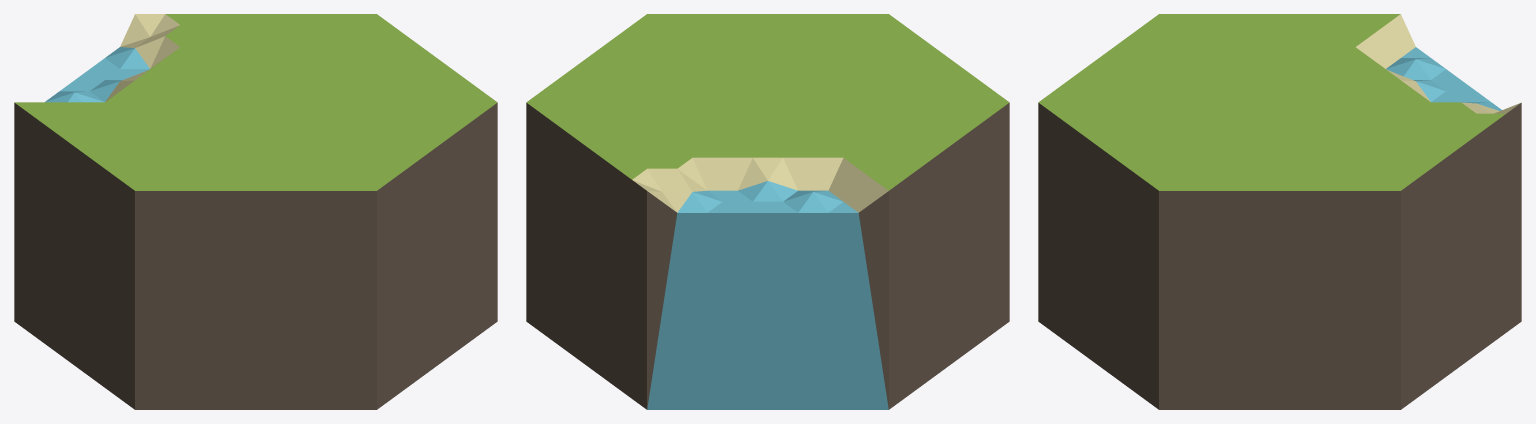
File: coast5a.fbx
3 views of the same model, side by side, from view 1: azimuth 30°, elevation 25°; view 2: azimuth 150°, elevation 25°; view 3: azimuth 270°, elevation 25° (orthographic).
Parts seen in each view (by area): view 1: Cylinder; view 2: Cylinder; view 3: Cylinder.
Boxes of the visible parts, left/top/right/bottom form: Cylinder: left=14, top=14, right=497, bottom=409; Cylinder: left=526, top=14, right=1009, bottom=409; Cylinder: left=1038, top=14, right=1521, bottom=409.
Size of the model in its own units: 1.73 by 1 by 2.
